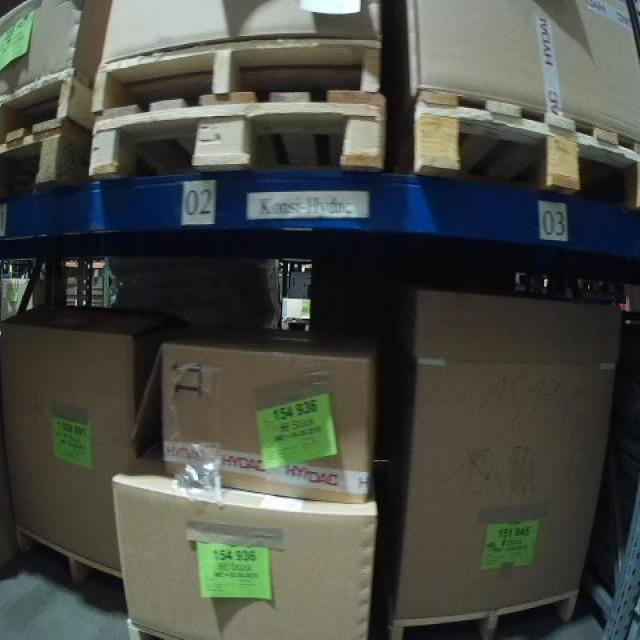pallet: (398, 104, 640, 210), (91, 89, 388, 171), (95, 34, 384, 113), (391, 593, 581, 640), (15, 529, 124, 609), (0, 64, 96, 142), (0, 119, 90, 197)
